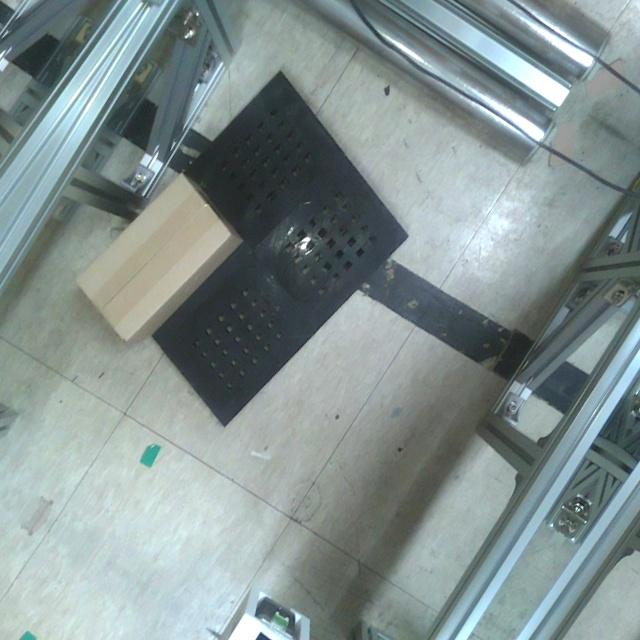box: (73, 170, 239, 346)
